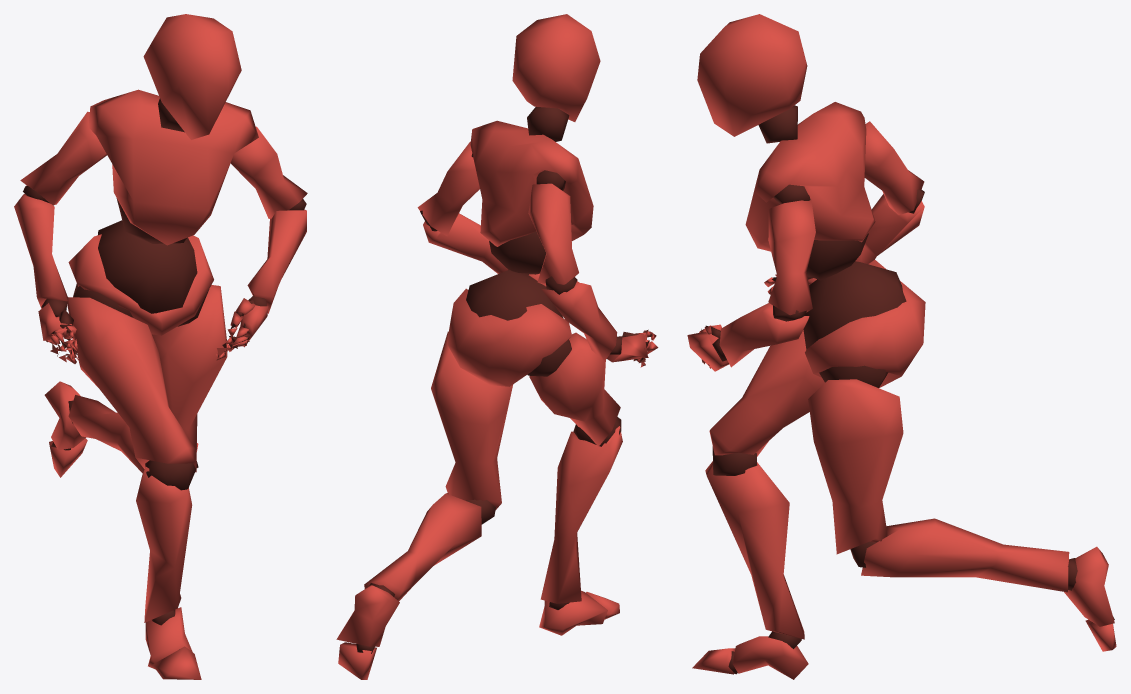
3 views of the same model, side by side, from view 1: azimuth 30°, elevation 25°; view 2: azimuth 150°, elevation 25°; view 3: azimuth 270°, elevation 25° (orthographic). The views are drawn at different scales.
Parts seen in each view (by area): view 1: Beta_Surface; view 2: Beta_Surface; view 3: Beta_Surface.
Boxes of the visible parts, x1,y1,x2,y2 form: Beta_Surface: [14, 14, 307, 679]; Beta_Surface: [336, 14, 658, 679]; Beta_Surface: [687, 14, 1116, 679].
Bounding box in the file's own units: 5.89 × 14.17 × 8.25.
